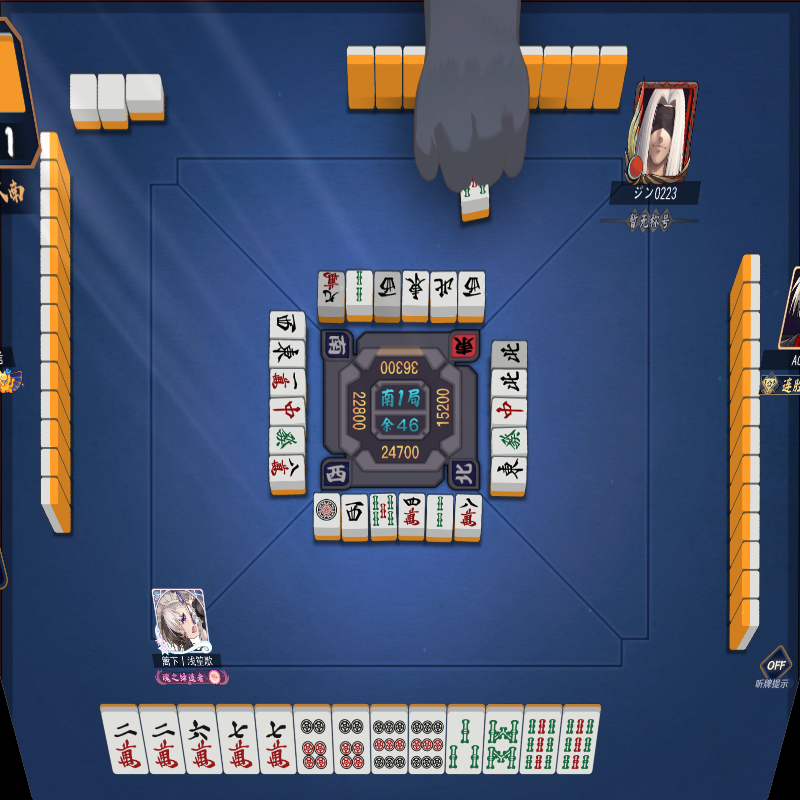1m: (267, 367, 308, 398)
1p: (313, 492, 341, 543)
1z: (401, 266, 430, 325), (487, 458, 529, 495), (267, 339, 308, 368)
2m: (97, 703, 148, 776), (138, 703, 187, 775)
2s: (344, 269, 374, 323), (424, 490, 453, 543)
3s: (446, 703, 484, 775)
3z: (372, 269, 402, 325), (339, 492, 369, 543), (458, 269, 483, 326), (268, 310, 307, 340)
4m: (396, 490, 427, 544)
4z: (431, 269, 459, 326), (487, 339, 529, 370), (489, 369, 530, 398)
5s: (368, 490, 398, 544)
5z: (123, 73, 166, 121), (97, 73, 130, 129), (70, 73, 103, 128)
6m: (176, 702, 224, 775)
6p: (327, 702, 371, 775), (292, 702, 335, 775)
6z: (489, 428, 530, 456), (268, 426, 306, 456)
7m: (215, 703, 261, 775), (251, 702, 296, 775)
7z: (487, 398, 530, 426), (268, 397, 307, 427)
8m: (453, 492, 483, 543), (269, 456, 306, 496)
8s: (483, 703, 524, 775)
9m: (317, 267, 345, 321)
9p: (405, 703, 447, 775), (367, 703, 408, 775)
9s: (557, 703, 601, 776), (521, 704, 561, 776)
